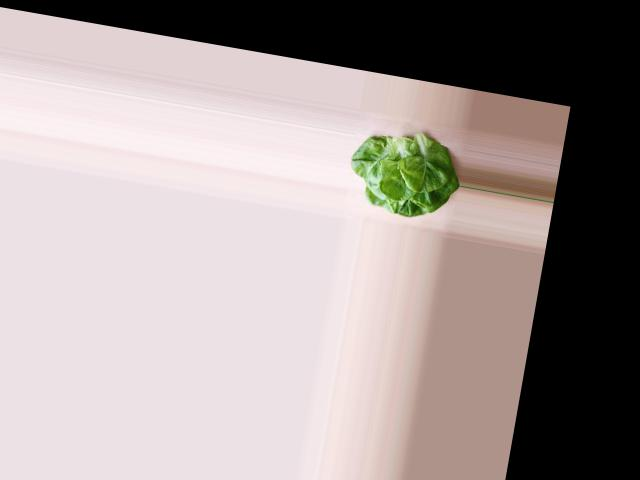lettuce: (346, 125, 464, 224)
